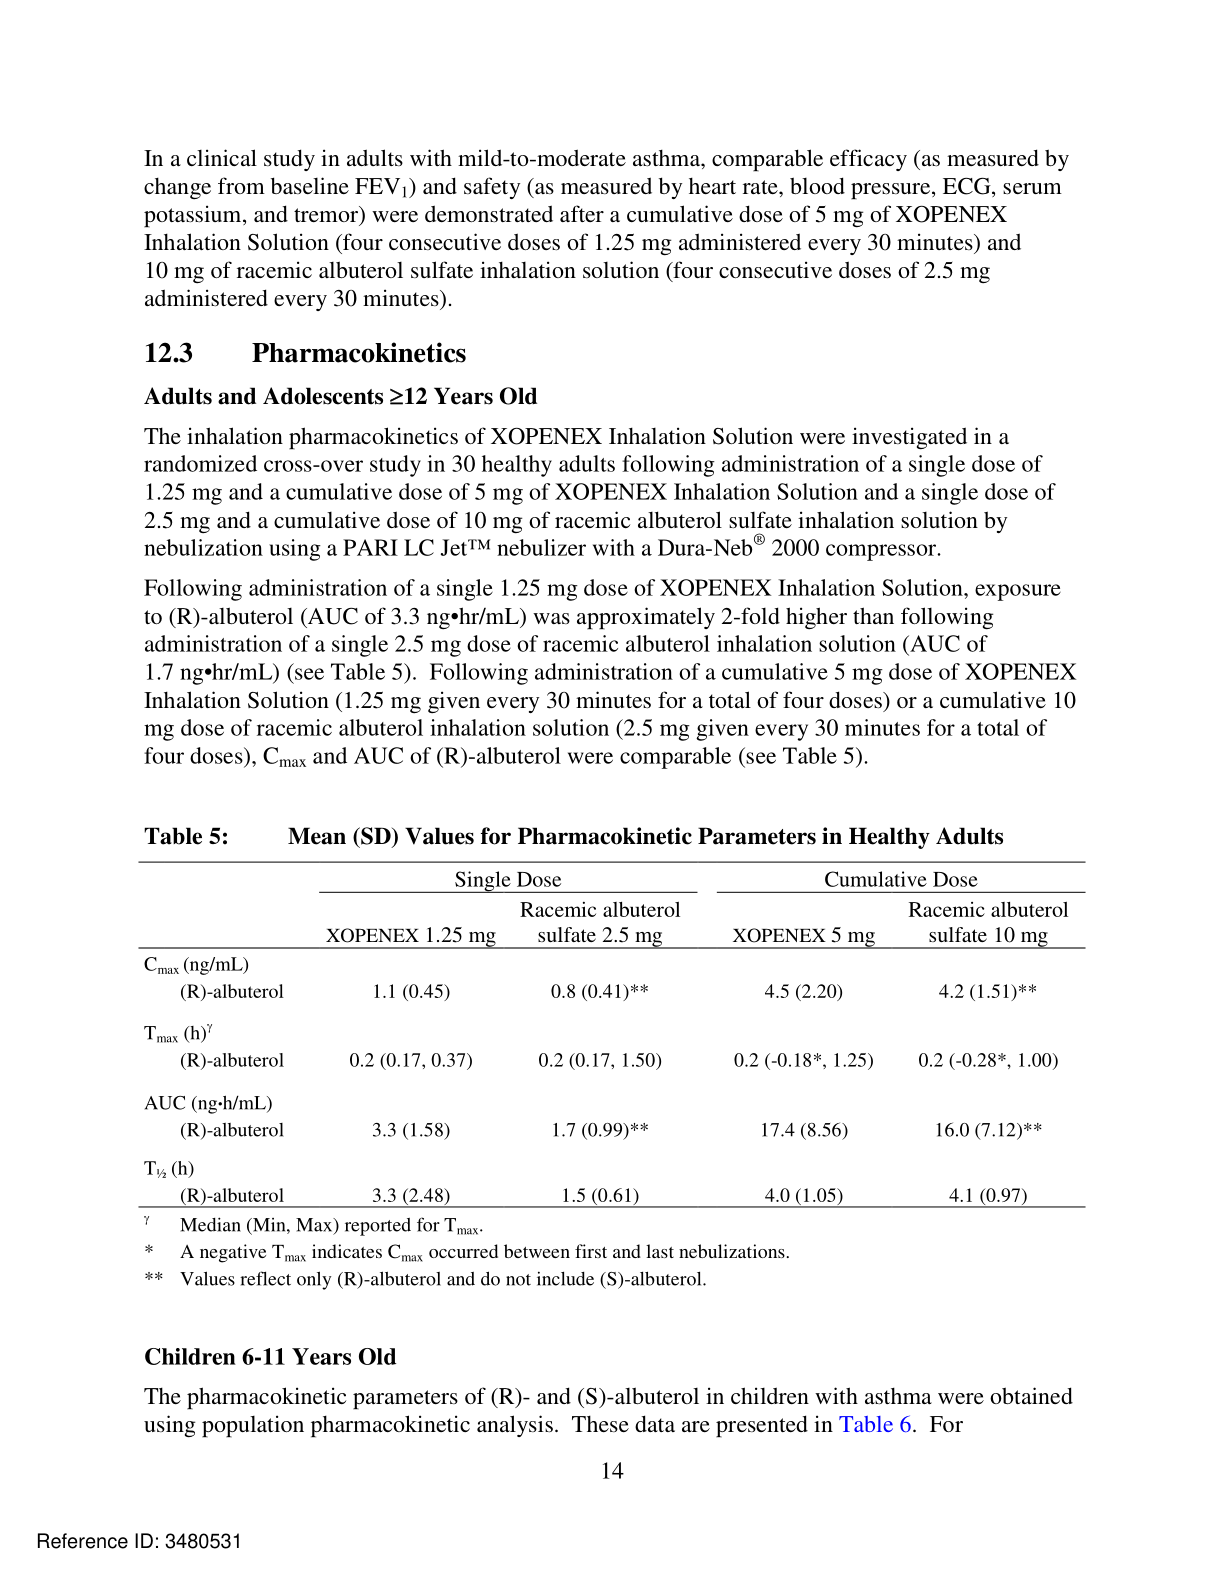partial_lined_merged_cells: (138, 860, 1088, 1210)
